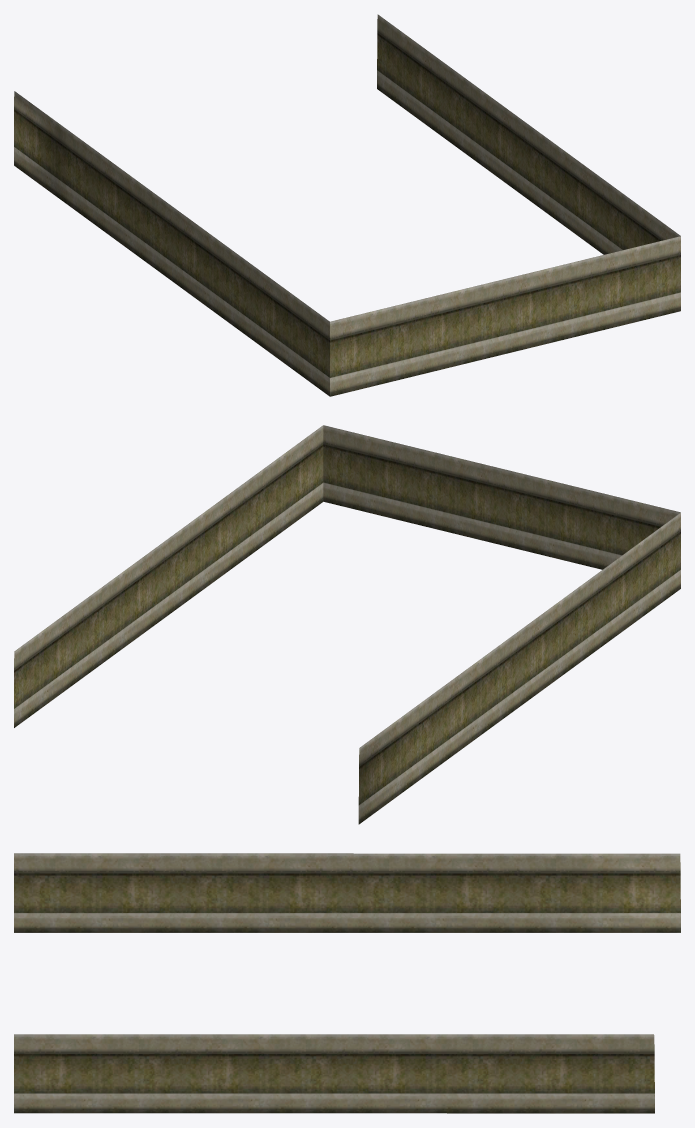
The model's file is CH09_SMAUG_PLAYSURFACE_LAIR97.fbx.
3 renders of one model, top to bottom at view 1: azimuth 30°, elevation 25°; view 2: azimuth 150°, elevation 25°; view 3: azimuth 270°, elevation 25°, orthographic. The views are drawn at different scales.
Parts seen in each view (by area): view 1: CH09_SMAUG_PLAYSURFACE_LAIR97; view 2: CH09_SMAUG_PLAYSURFACE_LAIR97; view 3: CH09_SMAUG_PLAYSURFACE_LAIR97.
Part boxes in pixels (<box>): CH09_SMAUG_PLAYSURFACE_LAIR97: <box>14,14,680,396</box>; CH09_SMAUG_PLAYSURFACE_LAIR97: <box>14,425,680,824</box>; CH09_SMAUG_PLAYSURFACE_LAIR97: <box>14,853,680,1113</box>.
Size of the model in its own units: 157874 by 32367 by 246229.
Materials: 1 (1 with a texture image).
